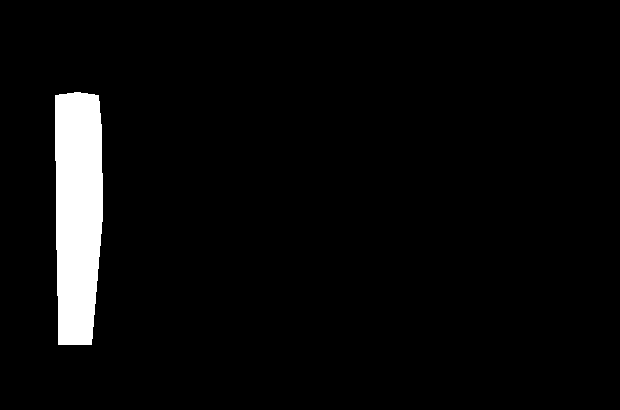type3s: (49, 88, 109, 347)
